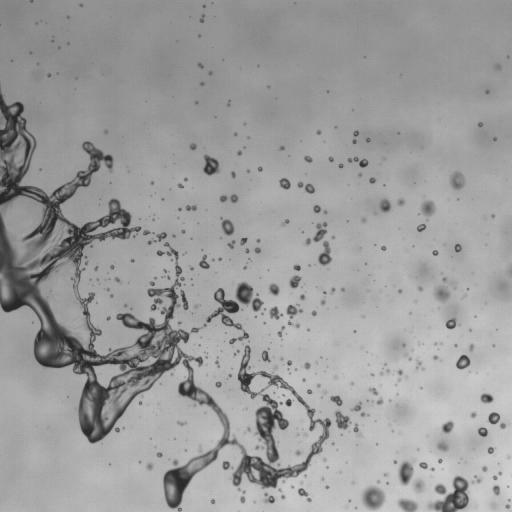droplet: (202, 282, 263, 344), (426, 476, 468, 511), (398, 461, 425, 492), (361, 485, 385, 511), (286, 305, 302, 328), (334, 409, 351, 429), (203, 155, 219, 175), (488, 412, 506, 428), (397, 498, 418, 511), (433, 286, 449, 302), (420, 200, 435, 216), (450, 172, 464, 189), (351, 402, 368, 416), (221, 218, 234, 235), (456, 355, 470, 369), (269, 306, 282, 319), (445, 317, 459, 329), (441, 420, 453, 433), (289, 275, 300, 288), (380, 199, 390, 212), (199, 255, 209, 268), (480, 393, 493, 403), (279, 178, 290, 189), (269, 283, 279, 295), (330, 395, 342, 405), (264, 493, 274, 503), (262, 350, 270, 362), (478, 427, 487, 436), (437, 443, 447, 451), (369, 387, 378, 395), (472, 476, 482, 483), (417, 224, 426, 231), (492, 485, 499, 494), (416, 359, 422, 369), (397, 198, 404, 206), (240, 237, 247, 245), (228, 240, 235, 248), (454, 244, 461, 252), (284, 399, 292, 406), (185, 205, 196, 210), (313, 205, 320, 212), (293, 264, 300, 271), (487, 446, 494, 453), (146, 463, 153, 470), (304, 156, 312, 162), (419, 462, 427, 468), (304, 362, 310, 369), (376, 398, 383, 404), (190, 143, 196, 149), (369, 177, 375, 183), (114, 277, 120, 283), (215, 381, 221, 387), (470, 412, 476, 418), (143, 230, 149, 235), (255, 247, 260, 253), (300, 294, 305, 300), (320, 299, 325, 305), (286, 360, 291, 366), (156, 452, 162, 457), (469, 344, 473, 351), (215, 359, 219, 366), (178, 421, 185, 425), (495, 64, 500, 69), (353, 131, 358, 136), (178, 183, 183, 188), (433, 250, 438, 255), (307, 389, 312, 394), (296, 450, 301, 455), (482, 466, 487, 471), (200, 15, 204, 21), (281, 493, 285, 499), (316, 130, 321, 134), (279, 146, 284, 150), (329, 157, 333, 162), (258, 166, 262, 171), (231, 172, 235, 177), (381, 246, 386, 250), (442, 277, 447, 281), (418, 286, 422, 291), (330, 288, 334, 293), (194, 304, 199, 308), (438, 458, 442, 463), (198, 63, 202, 67), (478, 122, 482, 126), (352, 139, 356, 143), (366, 138, 370, 142), (237, 151, 241, 155), (361, 218, 365, 222), (181, 229, 185, 233), (245, 249, 249, 253), (189, 266, 193, 270), (312, 311, 316, 315), (106, 316, 110, 320), (433, 355, 437, 359), (246, 427, 250, 431), (303, 432, 307, 436), (210, 499, 214, 503), (339, 163, 342, 167), (256, 239, 260, 242), (110, 265, 114, 268), (380, 371, 383, 375), (431, 467, 434, 471), (47, 73, 50, 76), (227, 102, 230, 105), (358, 173, 361, 176), (150, 181, 153, 184), (324, 210, 327, 213), (491, 214, 494, 217), (218, 257, 221, 260), (94, 267, 97, 270), (341, 288, 344, 291), (398, 289, 401, 292), (463, 294, 466, 297), (228, 374, 231, 377), (334, 375, 337, 378), (325, 485, 328, 488), (201, 82, 203, 85), (486, 90, 488, 93), (493, 138, 496, 140), (184, 178, 187, 180), (131, 259, 133, 262), (164, 269, 166, 272), (178, 321, 180, 324), (307, 328, 309, 331), (408, 357, 411, 359), (386, 370, 389, 372), (371, 373, 373, 376), (351, 382, 353, 385), (317, 384, 319, 387), (323, 391, 326, 393), (394, 460, 396, 463), (385, 473, 387, 476), (209, 72, 211, 74), (247, 170, 249, 172), (331, 236, 333, 238), (183, 252, 185, 254), (85, 262, 87, 264), (244, 266, 246, 268), (434, 342, 436, 344), (403, 344, 405, 346), (302, 379, 304, 381), (507, 456, 509, 458), (323, 458, 325, 460), (377, 481, 379, 483), (492, 505, 494, 507)
ligament: (0, 88, 330, 505), (305, 222, 327, 245), (318, 241, 331, 265), (148, 232, 166, 244), (348, 157, 367, 167), (297, 182, 314, 193), (298, 488, 311, 501), (219, 194, 238, 202), (353, 423, 361, 436), (277, 326, 284, 338), (397, 369, 402, 381), (281, 219, 289, 226), (493, 472, 501, 479), (507, 264, 511, 276), (505, 504, 511, 511), (233, 350, 239, 356), (165, 274, 169, 279), (30, 0, 33, 1)
